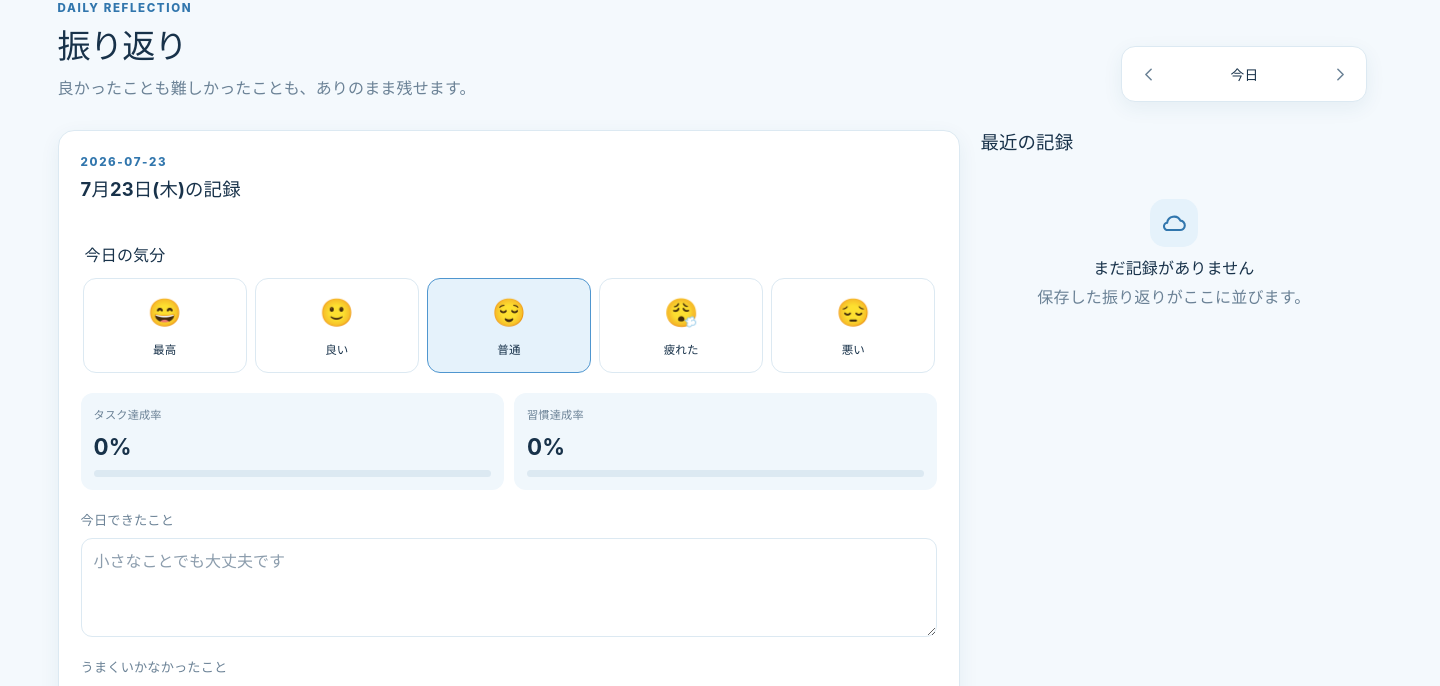
it: 主要画面の利用フロー › 振り返りを保存し、保存済み状態を表示する
The width and height of the screenshot is (1440, 686).
Type "テストを完了した" into the text box with placeholder "小さなことでも大丈夫です". click: (509, 588)
box: [81, 538, 938, 637]
(page scrolled)
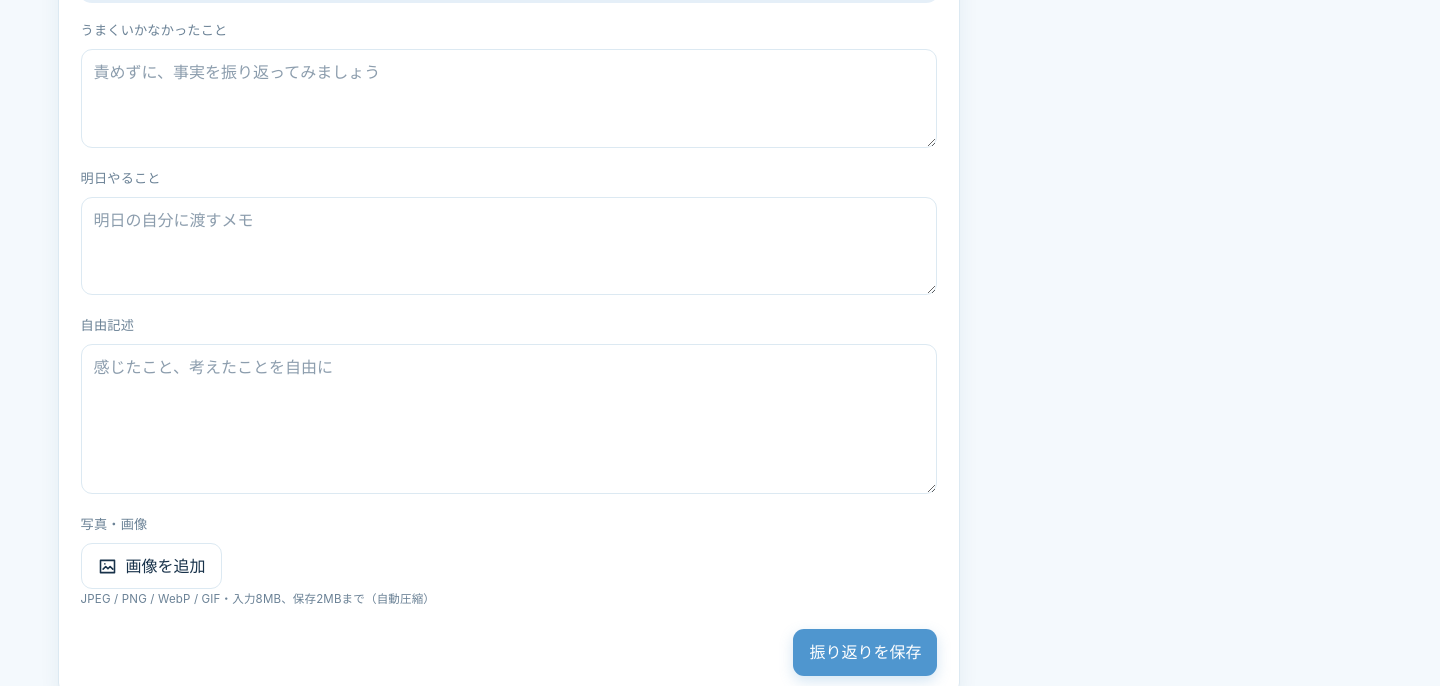
Click the button "振り返りを保存". click: click(865, 652)
box: [793, 629, 937, 676]
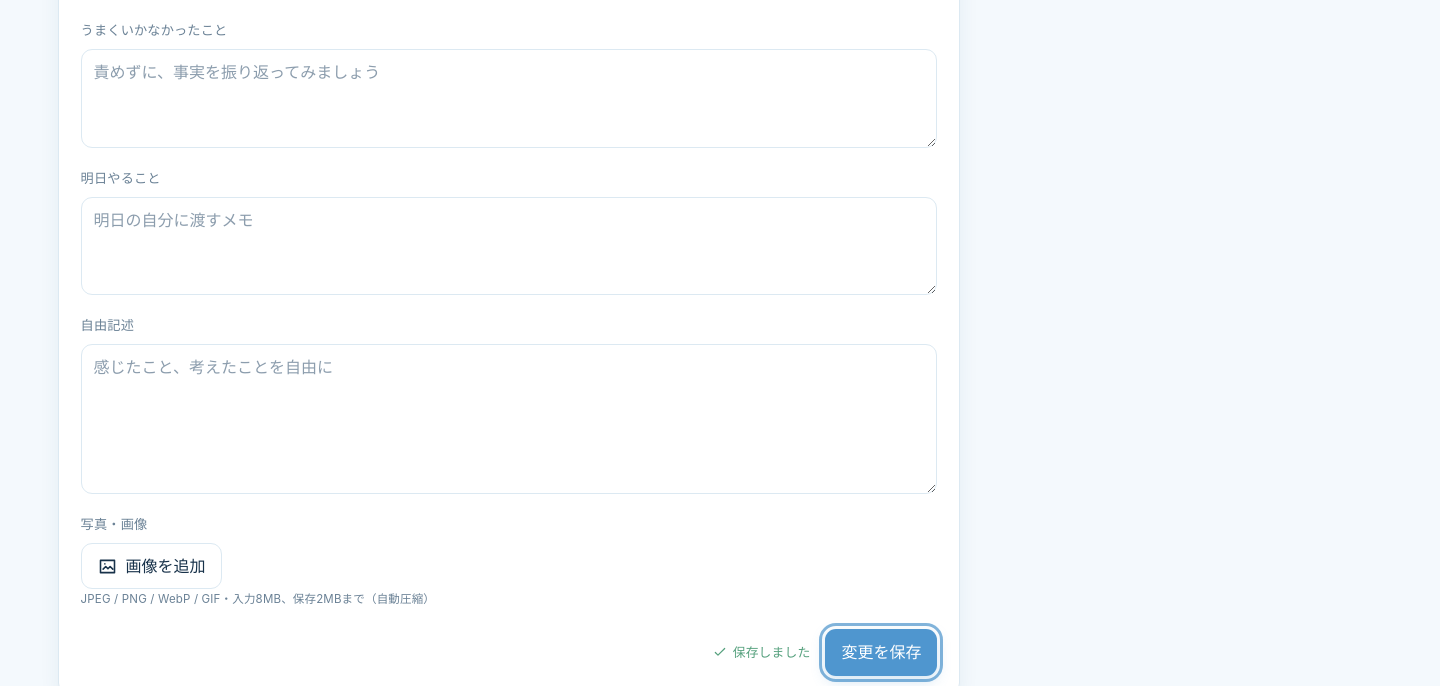
Expected: the text "保存しました" is shown, [712, 642, 810, 663]
Expected: the button "変更を保存" is shown, [825, 629, 937, 676]
